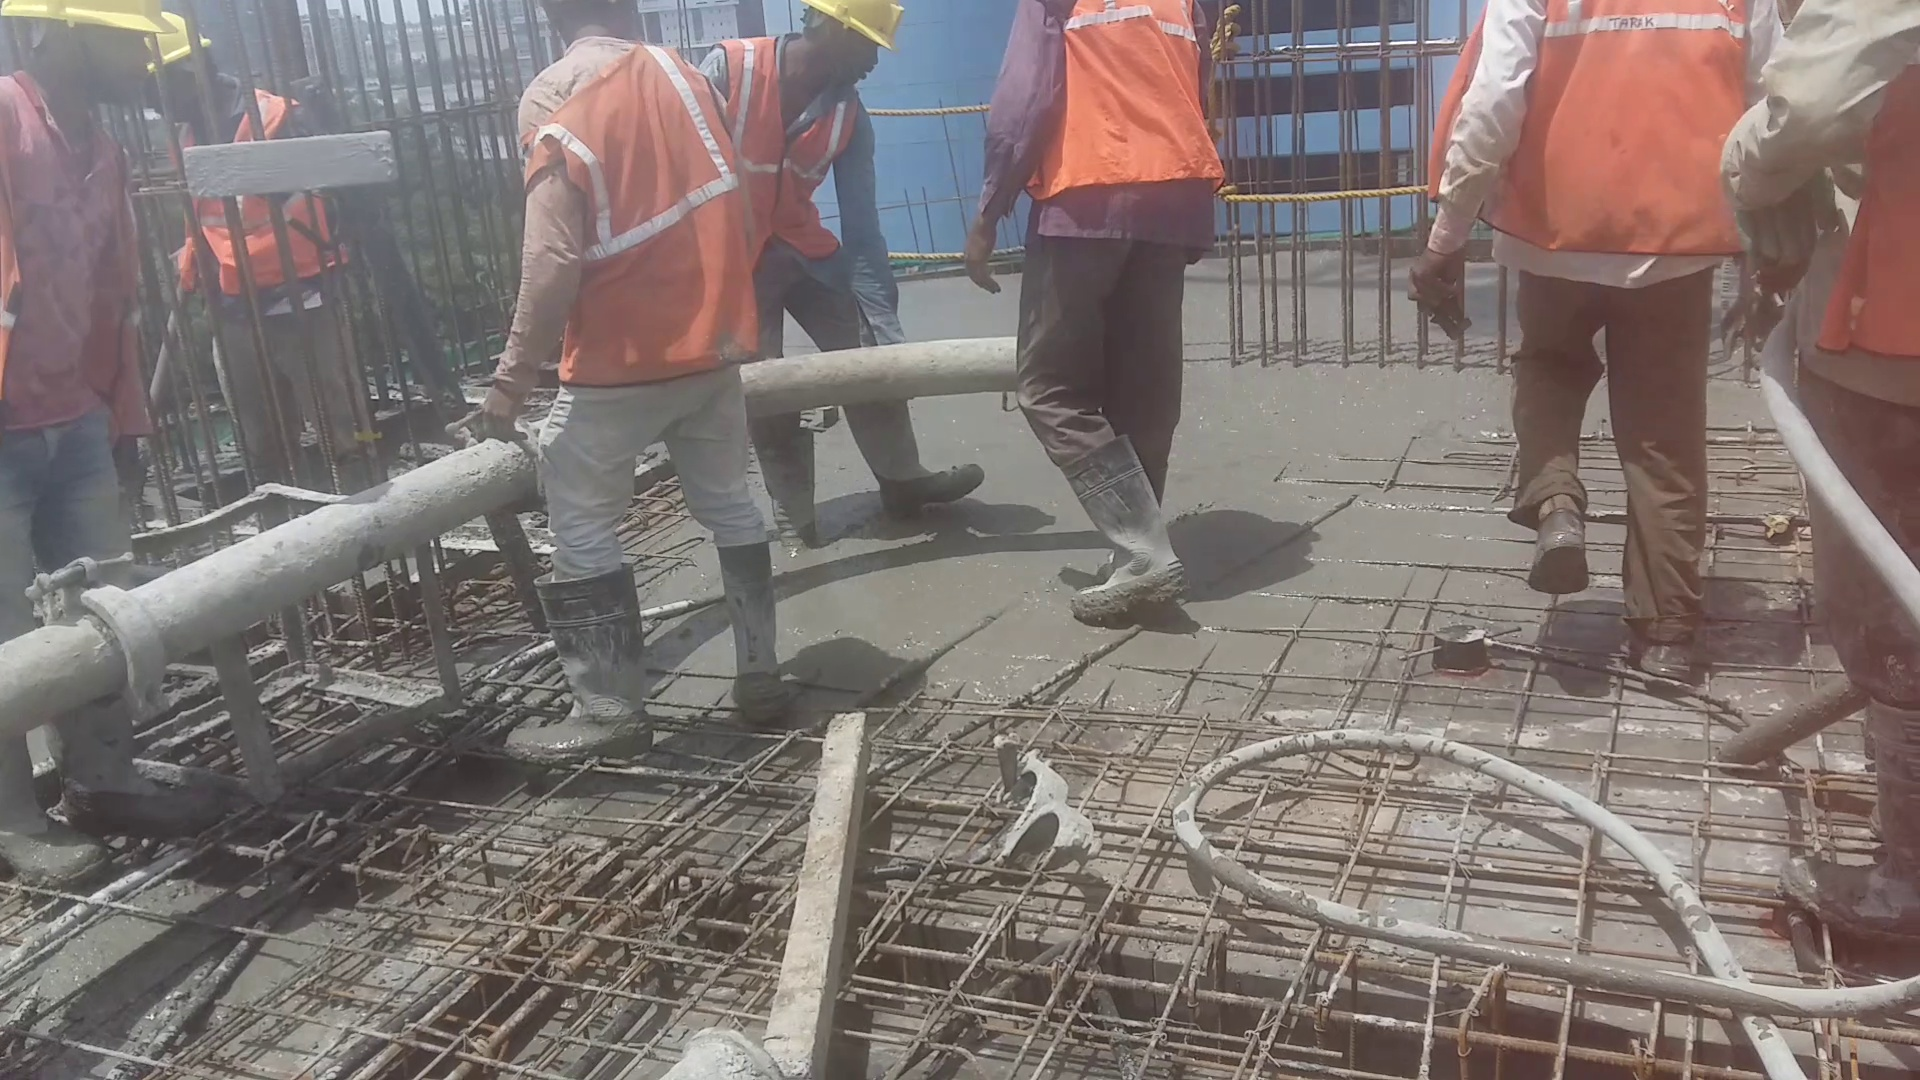NoJacket: (26, 7, 144, 396)
SAFE: (760, 1, 887, 268)
